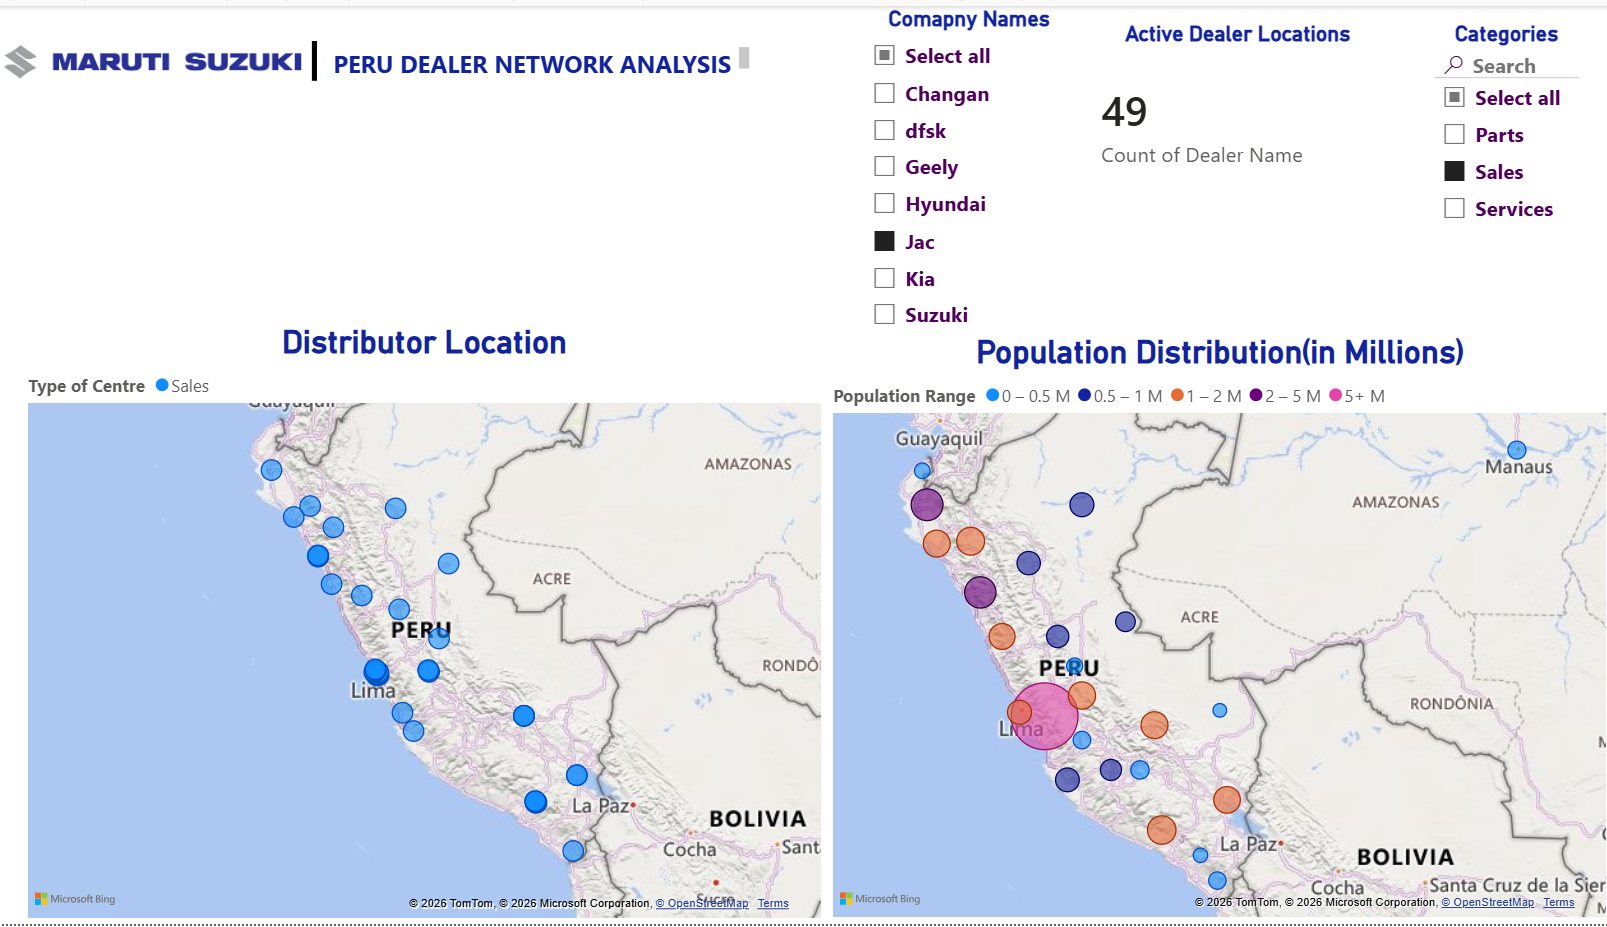

The dashboard page shown, as its layout file describes it:
{"tool":"powerbi","page":{"name":"Dashboard","canvas":[1280,720],"ordinal":0},"visuals":[{"type":"slicer","title":"Comapny Names","fields":{"Values":["All_Dealers.Company"]},"box":[677.9,0,174.4,267.4],"z":0},{"type":"slicer","title":"Categories","fields":{"Values":["All_Dealers.Type of Centre"]},"box":[1124.4,11.6,123.3,179.1],"z":1000},{"type":"map","title":"Distributor Location","fields":{"Y":["All_Dealers.Latitude"],"X":["All_Dealers.Longitude"],"Series":["All_Dealers.Type of Centre"]},"box":[22.1,248.8,631.4,470.9],"z":2000},{"type":"cardVisual","title":"Active Dealer Locations","fields":{"Data":["Count(All_Dealers.Dealer Name)"]},"box":[839.5,11.6,272.1,144.2],"z":3000},{"type":"image","box":[8.8,22.5,232.5,42.5],"z":4000},{"type":"shape","box":[231.4,27.1,41.4,31.4],"z":5000},{"type":"textbox","box":[352.3,58.1,145.3,25.6],"z":6000},{"type":"map","title":"Population Distribution(in Millions)","fields":{"Category":["Peru_Population.Region"],"Size":["Sum(Peru_Population.Population_Million)"],"Series":["Peru_Population.Population Range"]},"box":[653.5,257,616.3,462.8],"z":7000},{"type":"textbox","box":[261.6,27.9,336,30.2],"z":8000}]}

Visuals, with their boxes in screenshot pixels (x1, y1, x2, y2), scaled from the page's 1280x720 canvas onto the 1607x927 screenshot:
"Comapny Names" slicer: (left=851, top=0, right=1070, bottom=344)
"Categories" slicer: (left=1412, top=15, right=1566, bottom=246)
"Distributor Location" map: (left=28, top=320, right=820, bottom=926)
"Active Dealer Locations" cardVisual: (left=1054, top=15, right=1396, bottom=201)
image: (left=11, top=29, right=303, bottom=84)
shape: (left=291, top=35, right=342, bottom=75)
textbox: (left=442, top=75, right=625, bottom=108)
"Population Distribution(in Millions)" map: (left=820, top=331, right=1594, bottom=926)
textbox: (left=328, top=36, right=750, bottom=75)
